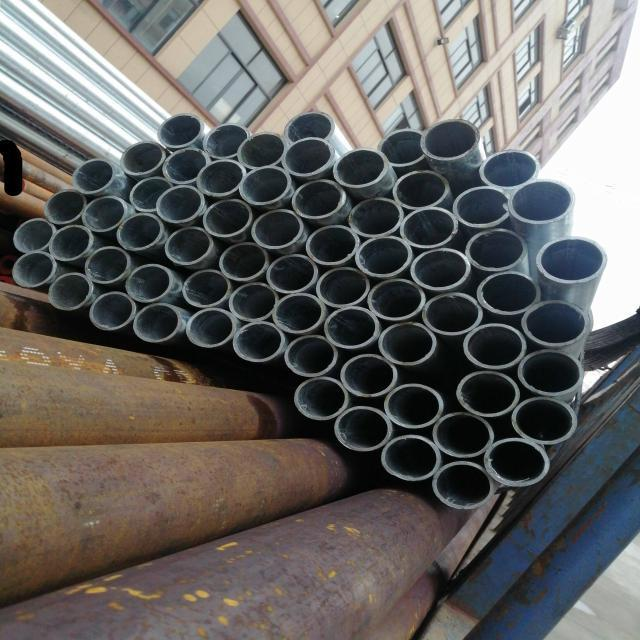pipe: (532, 234, 608, 286), (482, 436, 551, 489), (520, 298, 590, 348), (518, 346, 585, 398), (509, 396, 577, 446), (454, 369, 522, 418), (463, 225, 530, 274), (430, 460, 495, 510), (378, 432, 441, 482), (420, 290, 485, 338), (475, 270, 542, 316), (461, 323, 528, 369), (432, 409, 496, 456), (507, 180, 575, 224), (382, 383, 443, 430), (376, 322, 438, 368), (331, 406, 393, 452), (322, 304, 380, 352), (418, 118, 482, 161), (411, 246, 472, 291), (337, 353, 398, 398), (365, 278, 427, 322), (476, 147, 542, 188), (452, 184, 512, 228), (400, 204, 459, 248), (354, 236, 414, 279), (290, 376, 348, 420), (290, 177, 346, 221), (283, 334, 339, 378), (262, 253, 320, 295), (183, 306, 236, 351), (348, 196, 406, 237), (160, 224, 214, 268), (232, 321, 286, 365), (280, 136, 336, 178), (332, 148, 388, 190), (270, 292, 326, 334), (392, 169, 450, 209), (237, 165, 293, 206), (316, 266, 370, 308), (304, 223, 359, 264), (132, 301, 182, 346), (200, 198, 254, 238), (86, 289, 136, 332), (218, 241, 269, 282), (154, 184, 206, 224), (375, 127, 427, 167), (114, 211, 164, 252), (123, 262, 173, 303), (194, 158, 247, 196), (235, 130, 288, 168), (82, 244, 132, 284), (180, 268, 230, 308), (228, 282, 278, 322), (46, 270, 93, 312), (201, 121, 250, 161), (160, 144, 210, 183), (78, 194, 128, 233), (126, 173, 174, 213), (46, 224, 94, 264), (70, 156, 116, 195), (282, 111, 337, 143), (10, 250, 56, 288), (156, 111, 203, 148), (119, 139, 166, 176), (11, 218, 58, 254), (42, 187, 87, 224)
